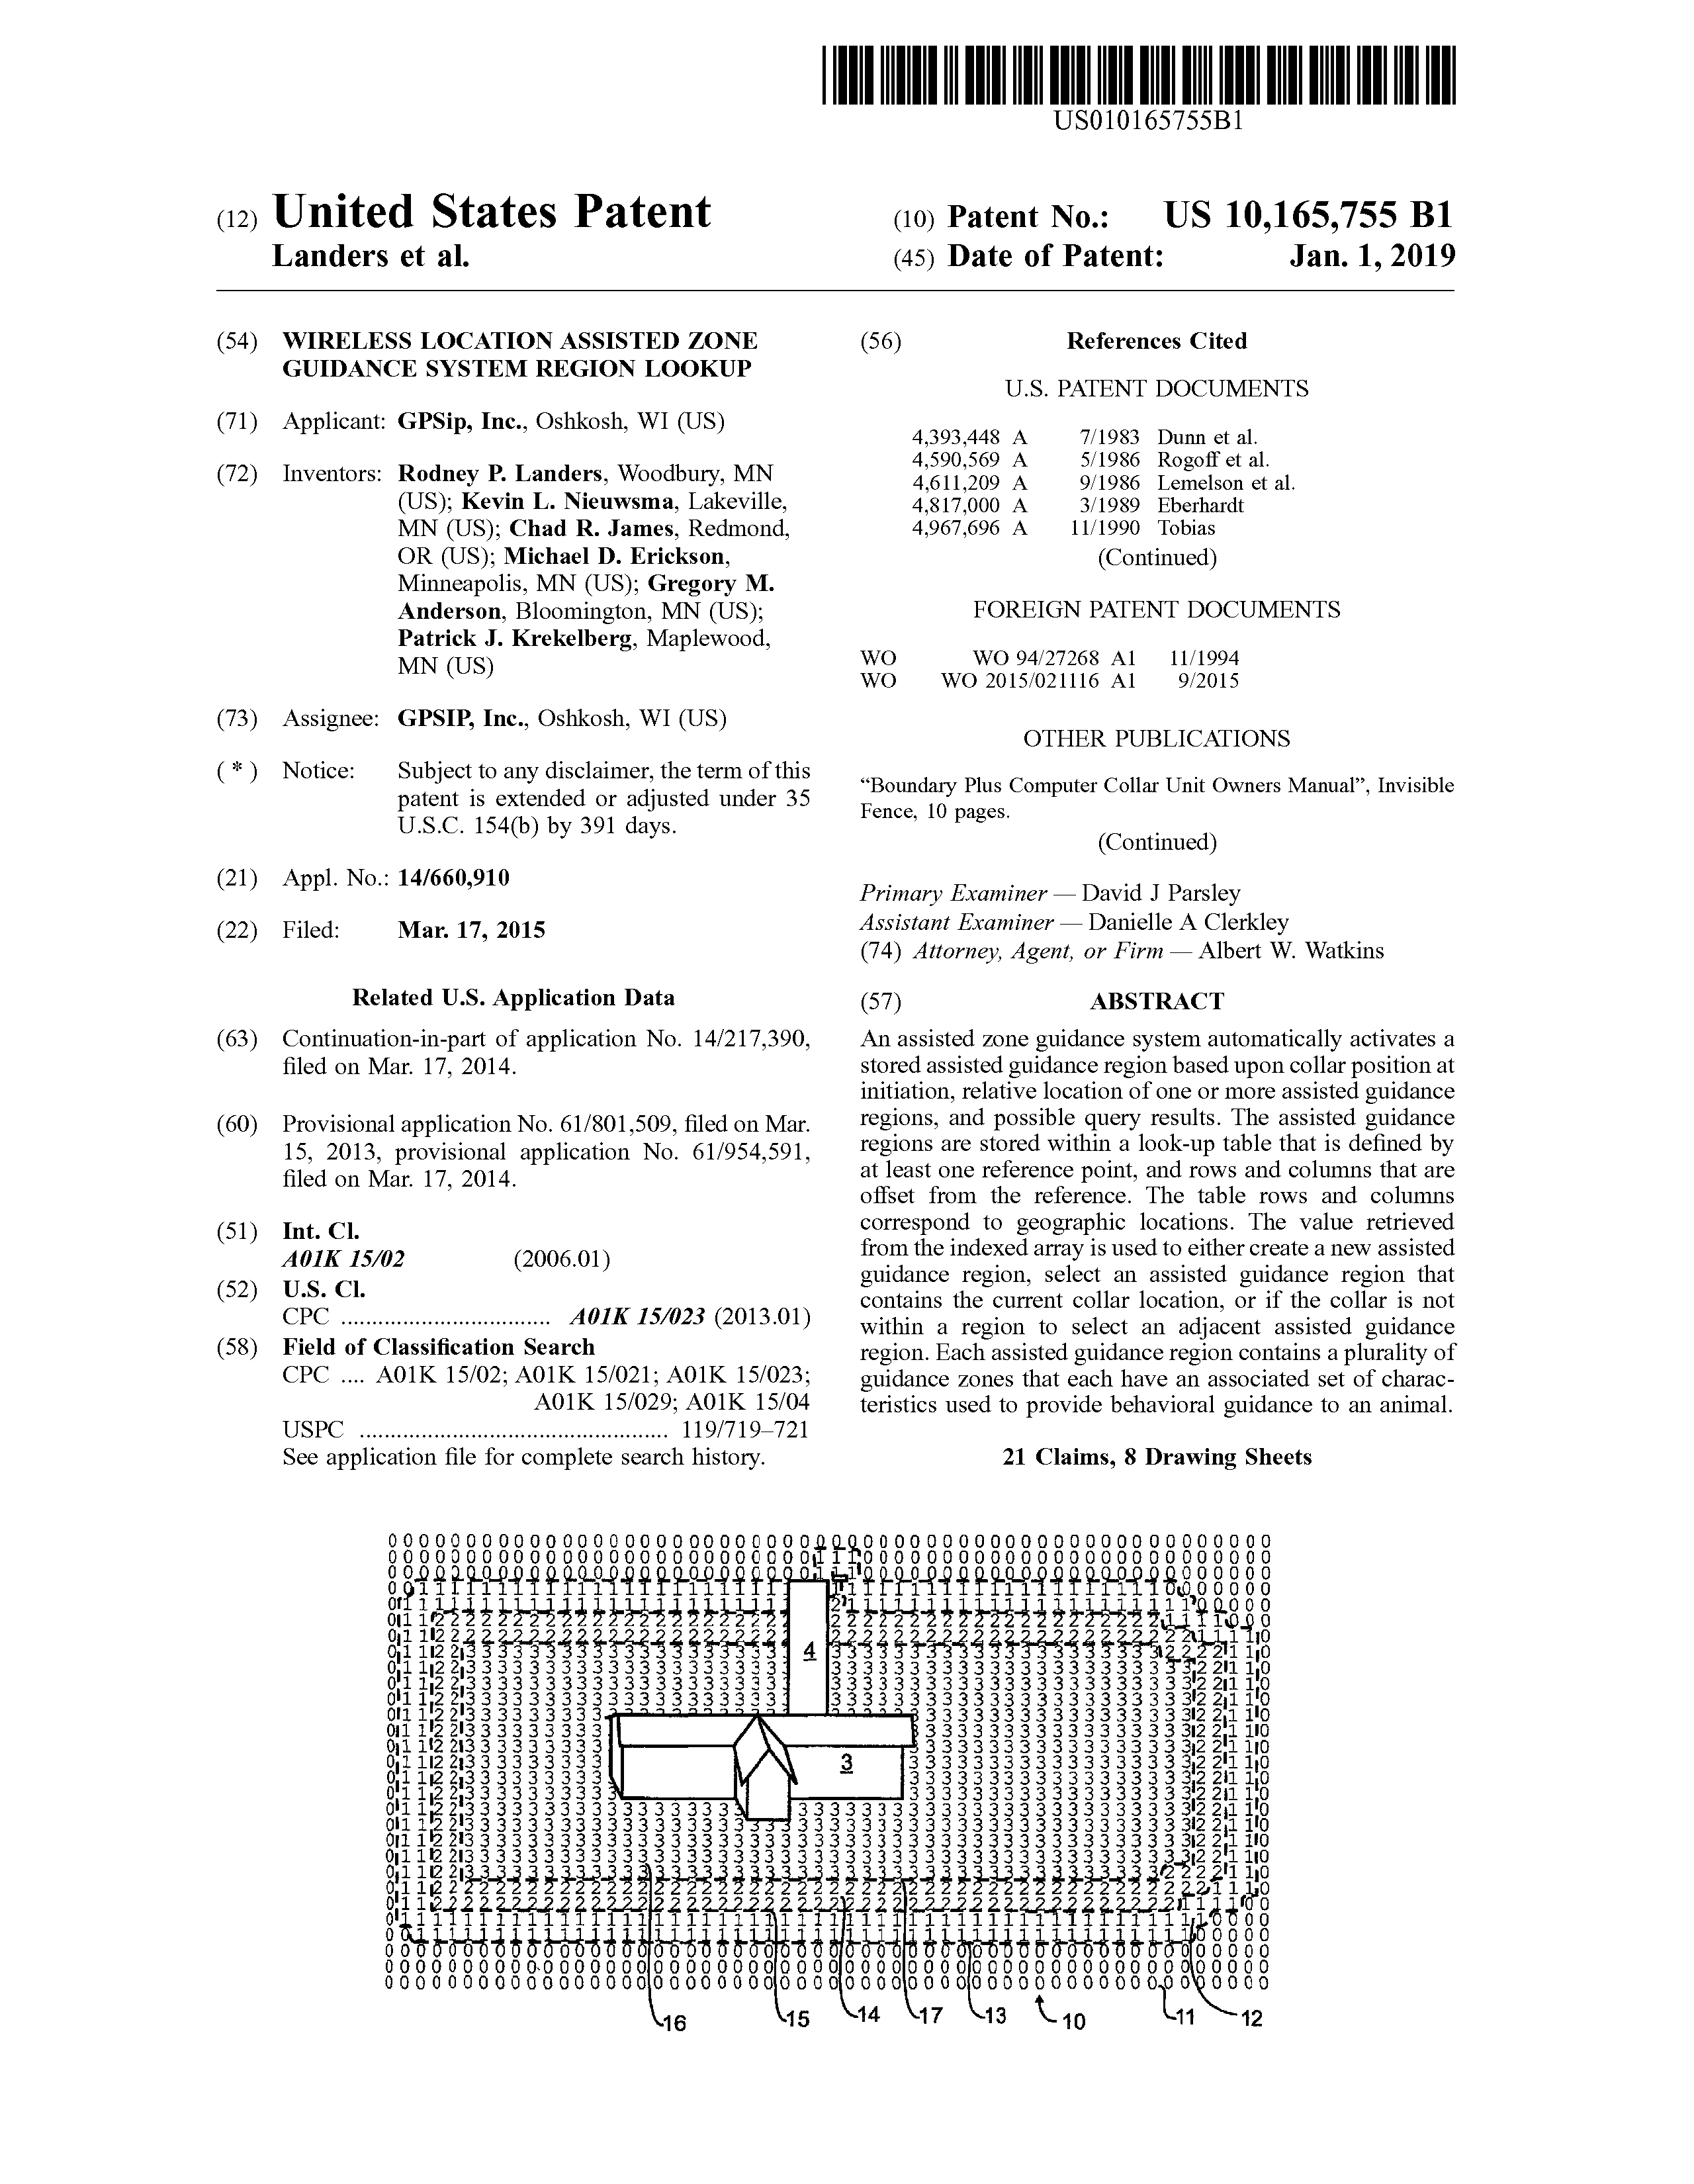patent image: (314, 1508, 1314, 2093)
